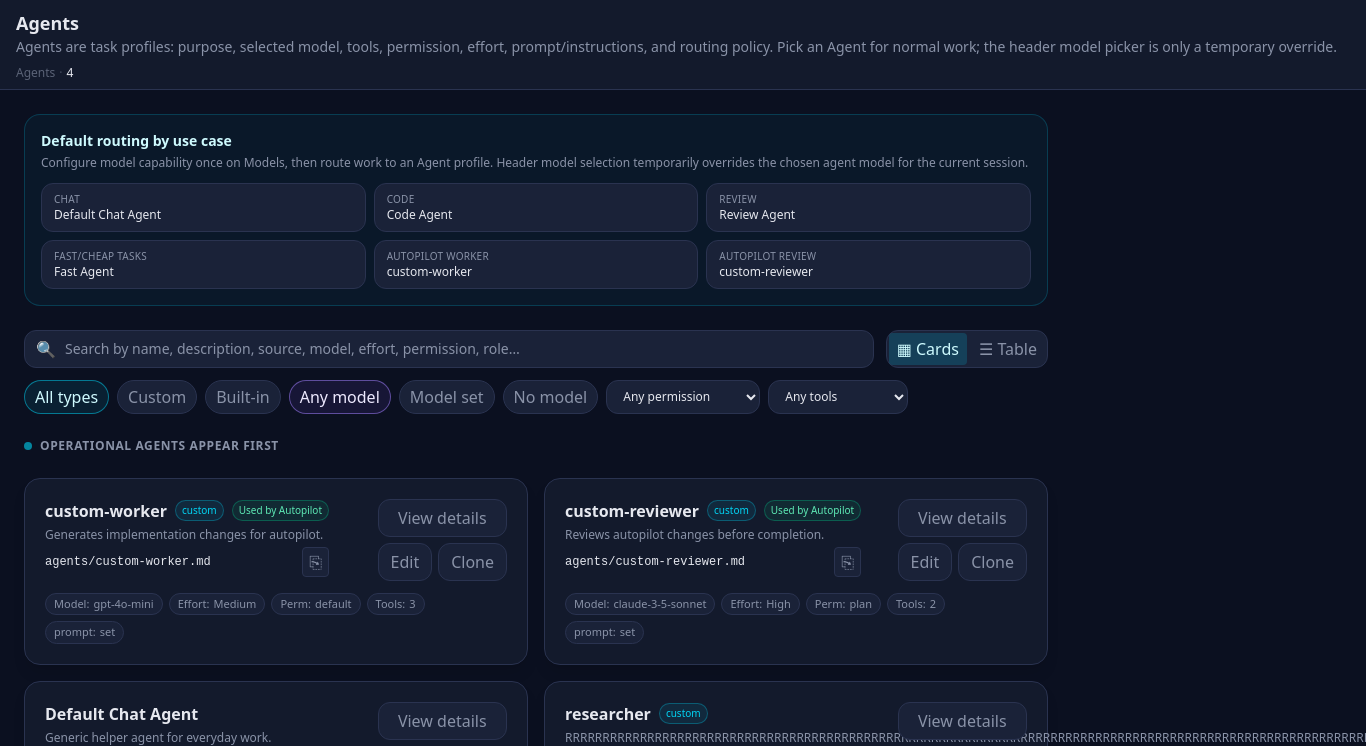
AgentsSettingsPage › opens the details modal when clicking View details
The image size is (1366, 746).
Expected: the text "Default Chat Agent" is shown, [54, 206, 161, 222]
Click the button "View details" next to "Generic helper agent for everyday work.". click: (442, 720)
box: [378, 702, 507, 740]
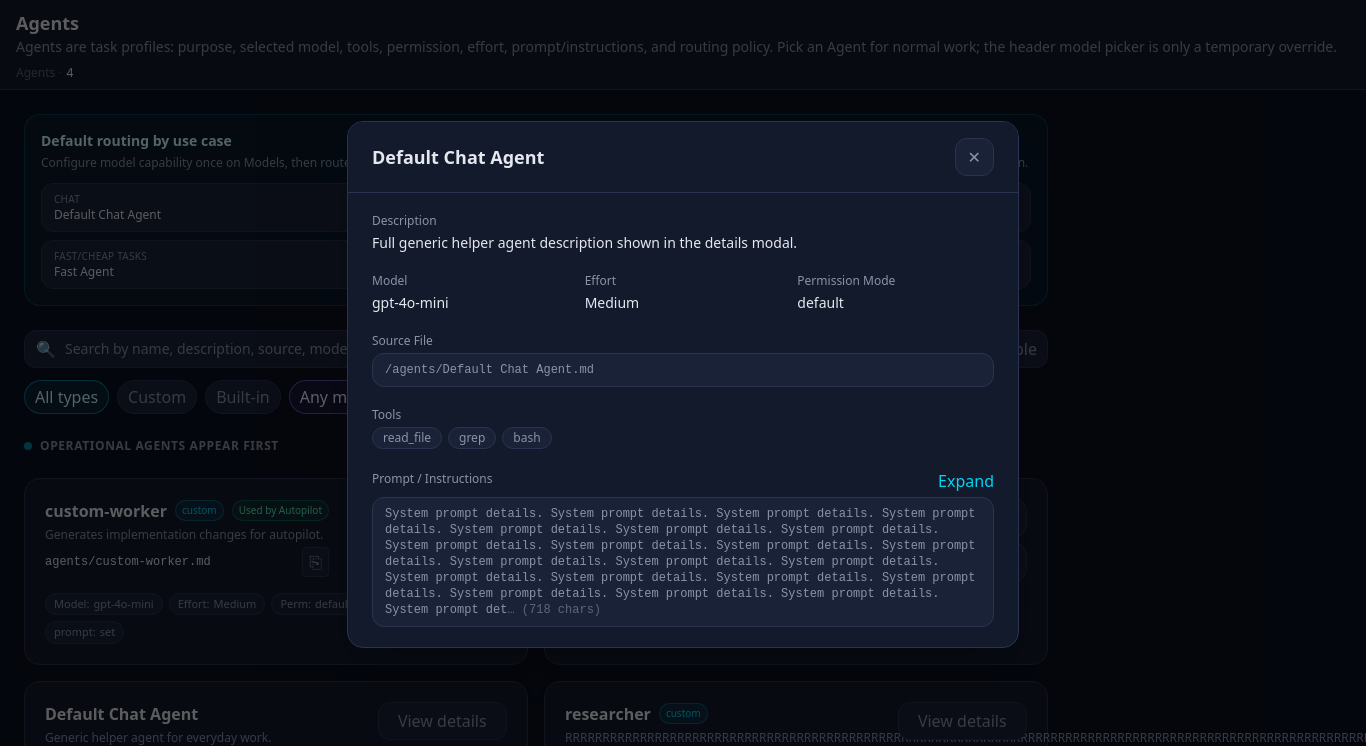
Expected: the text "Full generic helper agent description shown in the details modal." is shown, [372, 232, 797, 252]
Expected: the button "✕" is shown, [955, 138, 994, 176]
